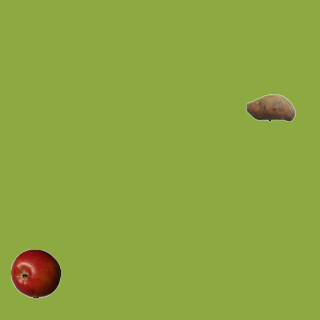Apple Braeburn: (10, 248, 60, 298)
Potato Sweet: (245, 82, 295, 132)
